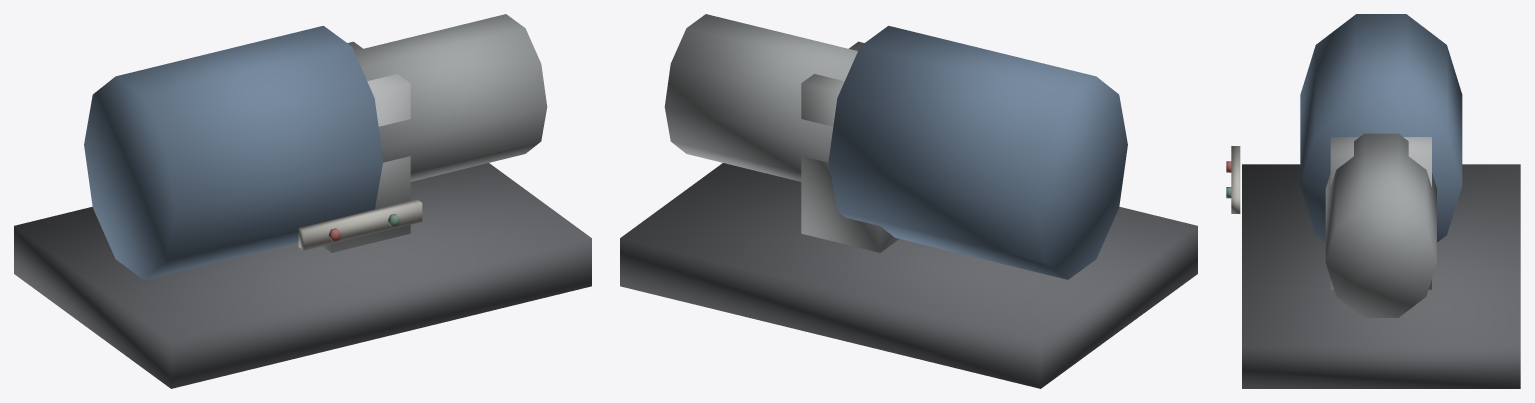
Rendered from circulation_pump__tall.glb.
The picture shows the model from 3 angles, left to right: view 1: azimuth 30°, elevation 25°; view 2: azimuth 150°, elevation 25°; view 3: azimuth 270°, elevation 25°; orthographic projection. The views are drawn at different scales.
Visible parts, largest first — view 1: world; view 2: world; view 3: world.
Part boxes in pixels (bbox=[...]): world: bbox=[14, 14, 591, 388]; world: bbox=[620, 14, 1197, 388]; world: bbox=[1226, 14, 1520, 388].
Bounding box in the file's own units: 0.855 × 0.4549 × 0.581.
